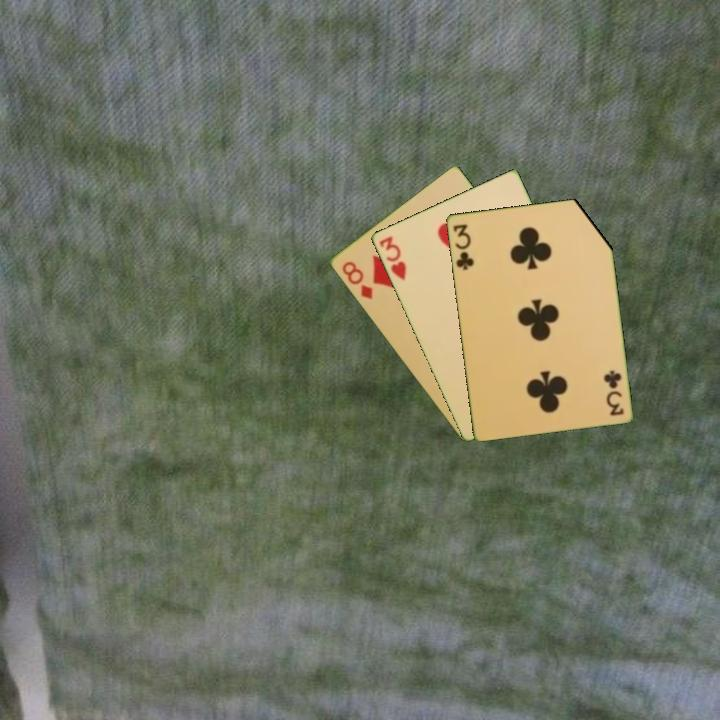3c: (449, 220, 477, 273), (601, 366, 626, 418)
3h: (375, 232, 409, 283)
8d: (338, 258, 375, 302)
